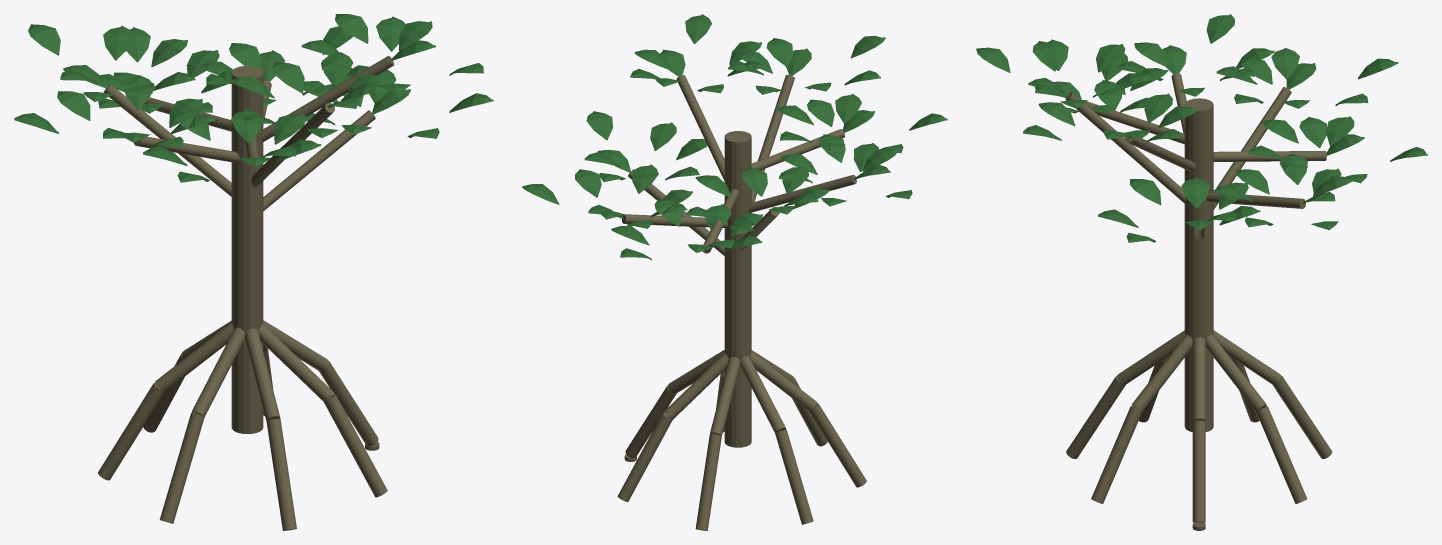
3 renders of one model, left to right at view 1: azimuth 30°, elevation 25°; view 2: azimuth 150°, elevation 25°; view 3: azimuth 270°, elevation 25°, orthographic. The views are drawn at different scales.
Visible parts, largest first — view 1: MANGROVE_Trunk, PROP_RootLower.005, PROP_RootLower.004, PROP_RootLower.006, PROP_RootLower.003, MANGROVE_Branch.001, MANGROVE_Branch, PROP_RootUpper.006, PROP_RootUpper.004, PROP_RootUpper.005, PROP_RootUpper.003, PROP_RootLower (+18 smaller); view 2: MANGROVE_Trunk, PROP_RootLower.002, PROP_RootLower.003, PROP_RootLower.001, PROP_RootLower.004, MANGROVE_Branch.005, PROP_RootUpper.001, PROP_RootUpper.003, PROP_RootUpper.002, PROP_RootUpper.004, PROP_RootLower, MANGROVE_Branch.004 (+15 smaller); view 3: MANGROVE_Trunk, PROP_RootLower, MANGROVE_Branch.002, PROP_RootLower.001, PROP_RootLower.006, PROP_RootLower.002, PROP_RootLower.005, PROP_RootUpper.001, PROP_RootUpper.006, PROP_RootUpper, MANGROVE_Branch.001, PROP_RootUpper.002 (+13 smaller).
Part boxes in pixels (box(x1,y1,x2,y2)): MANGROVE_Trunk: box(231, 66, 263, 433); PROP_RootLower.005: box(266, 418, 296, 530); PROP_RootLower.004: box(159, 413, 204, 523); PROP_RootLower.006: box(324, 394, 387, 497); PROP_RootLower.003: box(98, 382, 164, 480); MANGROVE_Branch.001: box(103, 84, 231, 196); MANGROVE_Branch: box(263, 110, 375, 210); PROP_RootUpper.006: box(258, 324, 333, 401); PROP_RootUpper.004: box(191, 327, 244, 416); PROP_RootUpper.005: box(245, 328, 280, 420); PROP_RootUpper.003: box(155, 322, 233, 391); PROP_RootLower: box(319, 361, 378, 446); MANGROVE_Trunk: box(724, 131, 751, 447); PROP_RootLower.002: box(695, 434, 721, 530); PROP_RootLower.003: box(775, 429, 813, 524); PROP_RootLower.001: box(617, 413, 672, 501); PROP_RootLower.004: box(809, 403, 866, 487); MANGROVE_Branch.005: box(676, 75, 724, 180); PROP_RootUpper.001: box(664, 353, 728, 419); PROP_RootUpper.003: box(740, 356, 785, 432); PROP_RootUpper.002: box(710, 356, 740, 435); PROP_RootUpper.004: box(750, 351, 817, 411); PROP_RootLower: box(625, 385, 676, 457); MANGROVE_Branch.004: box(748, 174, 856, 212); MANGROVE_Trunk: box(1184, 98, 1213, 431); PROP_RootLower: box(1192, 420, 1205, 522); MANGROVE_Branch.002: box(1065, 92, 1186, 203); PROP_RootLower.001: box(1256, 406, 1307, 503); PROP_RootLower.006: box(1091, 406, 1142, 503); PROP_RootLower.002: box(1273, 376, 1332, 458); PROP_RootLower.005: box(1066, 376, 1125, 458); PROP_RootUpper.001: box(1205, 334, 1266, 411); PROP_RootUpper.006: box(1131, 334, 1192, 411); PROP_RootUpper: box(1192, 337, 1205, 420); MANGROVE_Branch.001: box(1213, 87, 1291, 209); PROP_RootUpper.002: box(1213, 330, 1281, 384).
Bounding box in the file's own units: 3.06 × 3.07 × 3.11.
